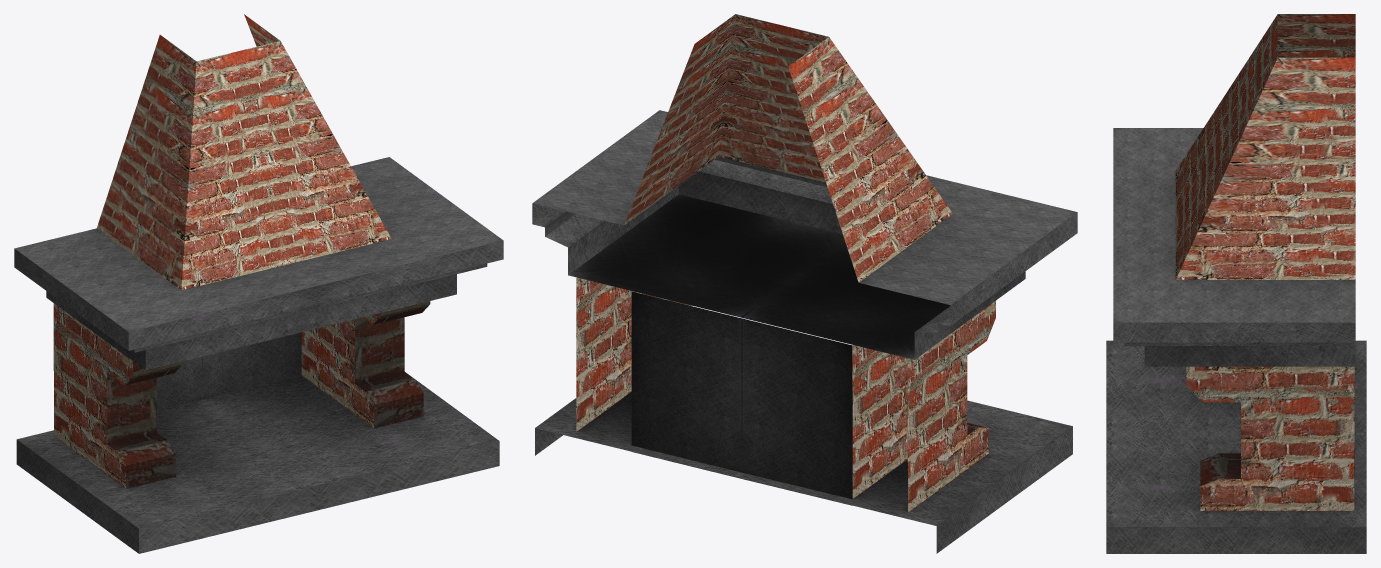
Rendered from fireplace.dae.
3 renders of one model, left to right at view 1: azimuth 30°, elevation 25°; view 2: azimuth 150°, elevation 25°; view 3: azimuth 270°, elevation 25°, orthographic. The views are drawn at different scales.
Visible parts, largest first — view 1: Chimenea_bottom_001; view 2: Chimenea_bottom_001; view 3: Chimenea_bottom_001.
Boxes of the visible parts, box(x1,y1,x2,y2) form: Chimenea_bottom_001: box(14, 14, 503, 553); Chimenea_bottom_001: box(532, 14, 1077, 553); Chimenea_bottom_001: box(1106, 14, 1366, 553).
Bounding box in the file's own units: 13.62 × 7.7 × 13.87.
1 material, 1 textured.
